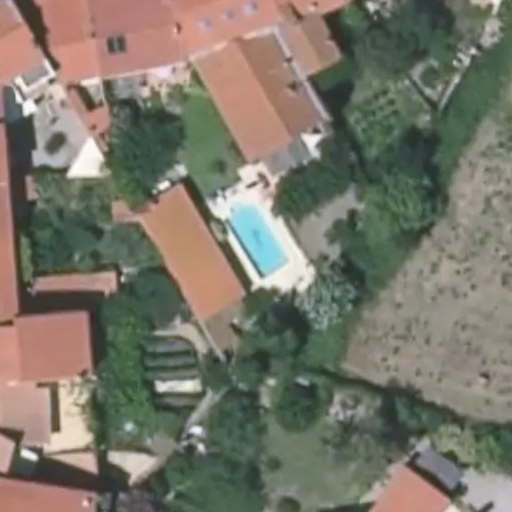pool: (217, 212, 290, 264)
